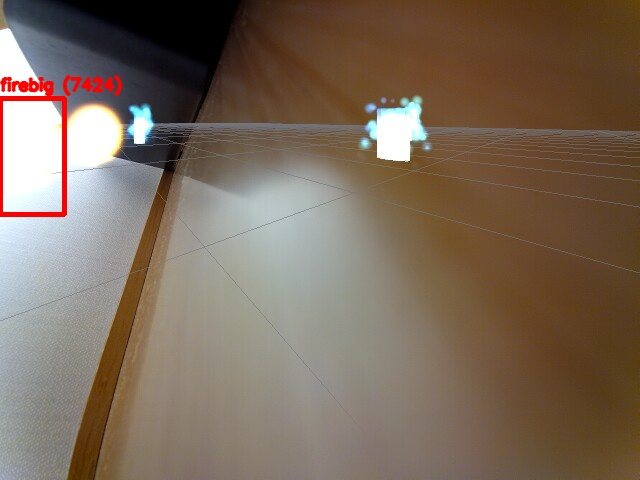firebig: (0, 98, 64, 214)
